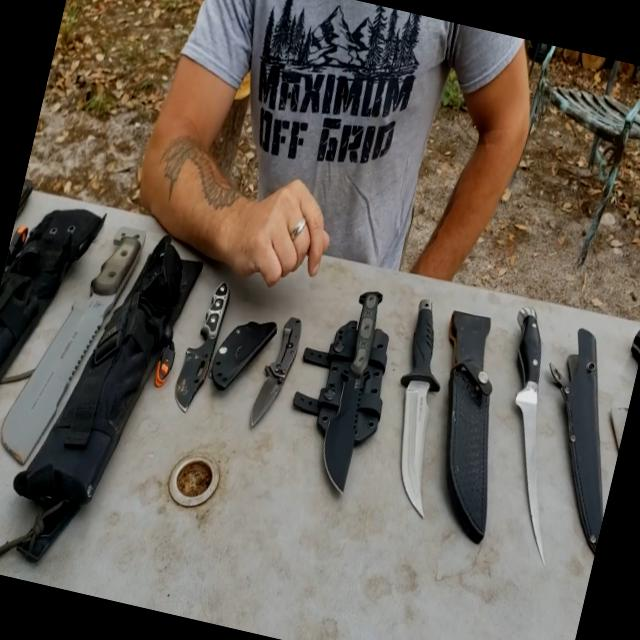knife: (0, 210, 166, 498), (276, 245, 425, 549), (455, 288, 602, 564), (364, 286, 480, 525), (131, 254, 251, 463), (240, 294, 332, 464)
